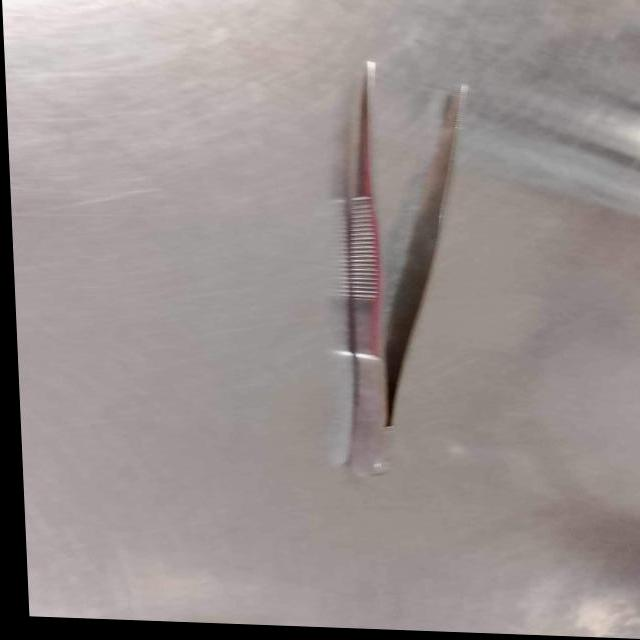General: (341, 57, 471, 479)
Pathological: (6, 1, 640, 635)
Sharps: (344, 59, 394, 477)
